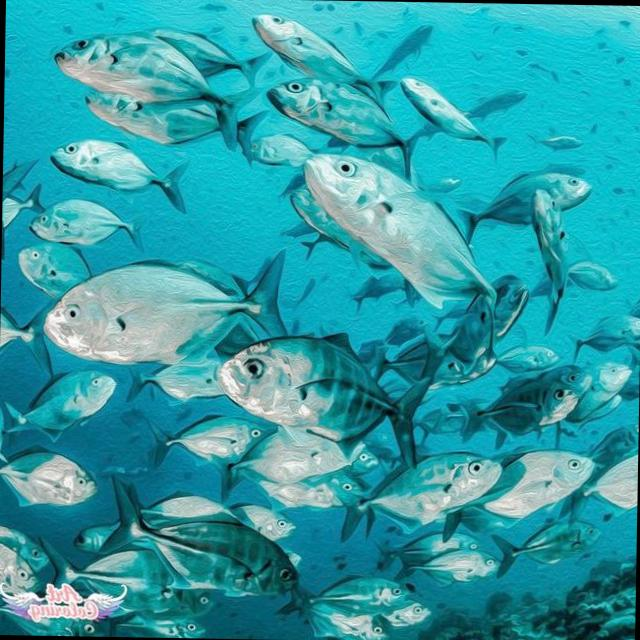fish: (302, 152, 518, 337), (216, 328, 434, 471), (40, 244, 287, 368), (50, 28, 263, 151), (98, 476, 300, 599), (264, 76, 422, 187), (333, 446, 503, 546), (434, 444, 599, 544), (84, 91, 266, 172), (250, 14, 398, 110), (45, 137, 190, 213), (459, 166, 592, 248), (0, 363, 118, 444), (398, 78, 508, 164), (150, 24, 272, 88), (147, 412, 276, 472), (457, 374, 578, 436), (490, 516, 599, 581), (28, 195, 148, 254), (0, 447, 100, 510), (526, 190, 564, 335), (282, 572, 412, 614), (13, 242, 102, 300), (0, 290, 57, 378), (555, 361, 632, 426), (374, 530, 482, 574), (276, 598, 389, 640), (126, 358, 224, 406), (367, 21, 433, 82), (413, 548, 505, 584), (564, 314, 630, 358), (0, 522, 48, 575), (229, 502, 294, 540), (456, 84, 524, 120), (247, 134, 314, 168), (0, 539, 37, 598), (72, 518, 128, 556), (1, 183, 46, 229), (492, 347, 560, 375), (564, 261, 618, 295), (2, 153, 38, 194), (526, 131, 585, 153), (390, 602, 430, 628)
